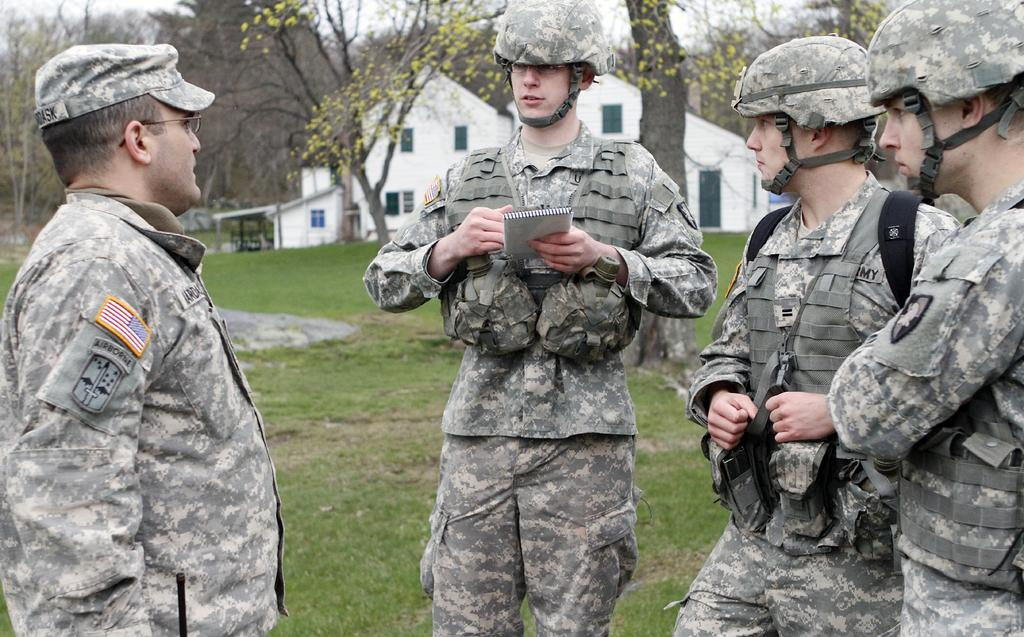Hat: (36, 38, 214, 133)
